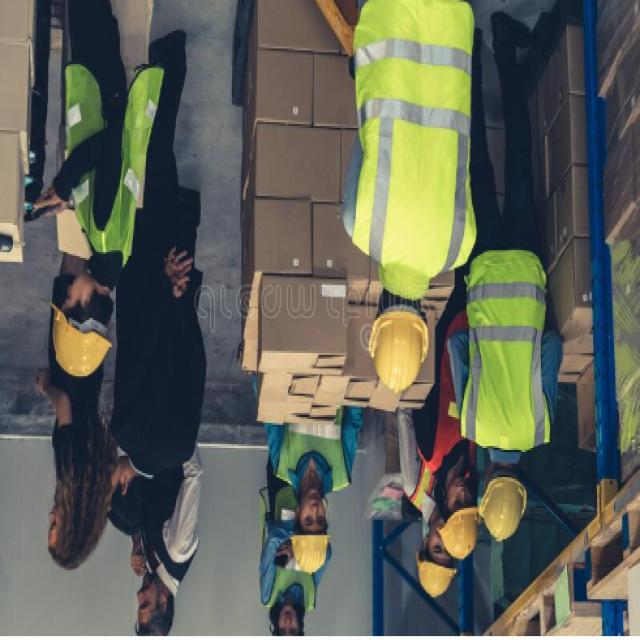hard_hat: (358, 289, 434, 399), (44, 268, 116, 381), (473, 460, 532, 546), (283, 483, 333, 575), (436, 471, 478, 566), (417, 520, 459, 600)
vest: (346, 0, 480, 298), (62, 60, 168, 268), (459, 247, 551, 451), (424, 316, 494, 478), (275, 372, 353, 494), (414, 392, 468, 519), (263, 498, 317, 616)
